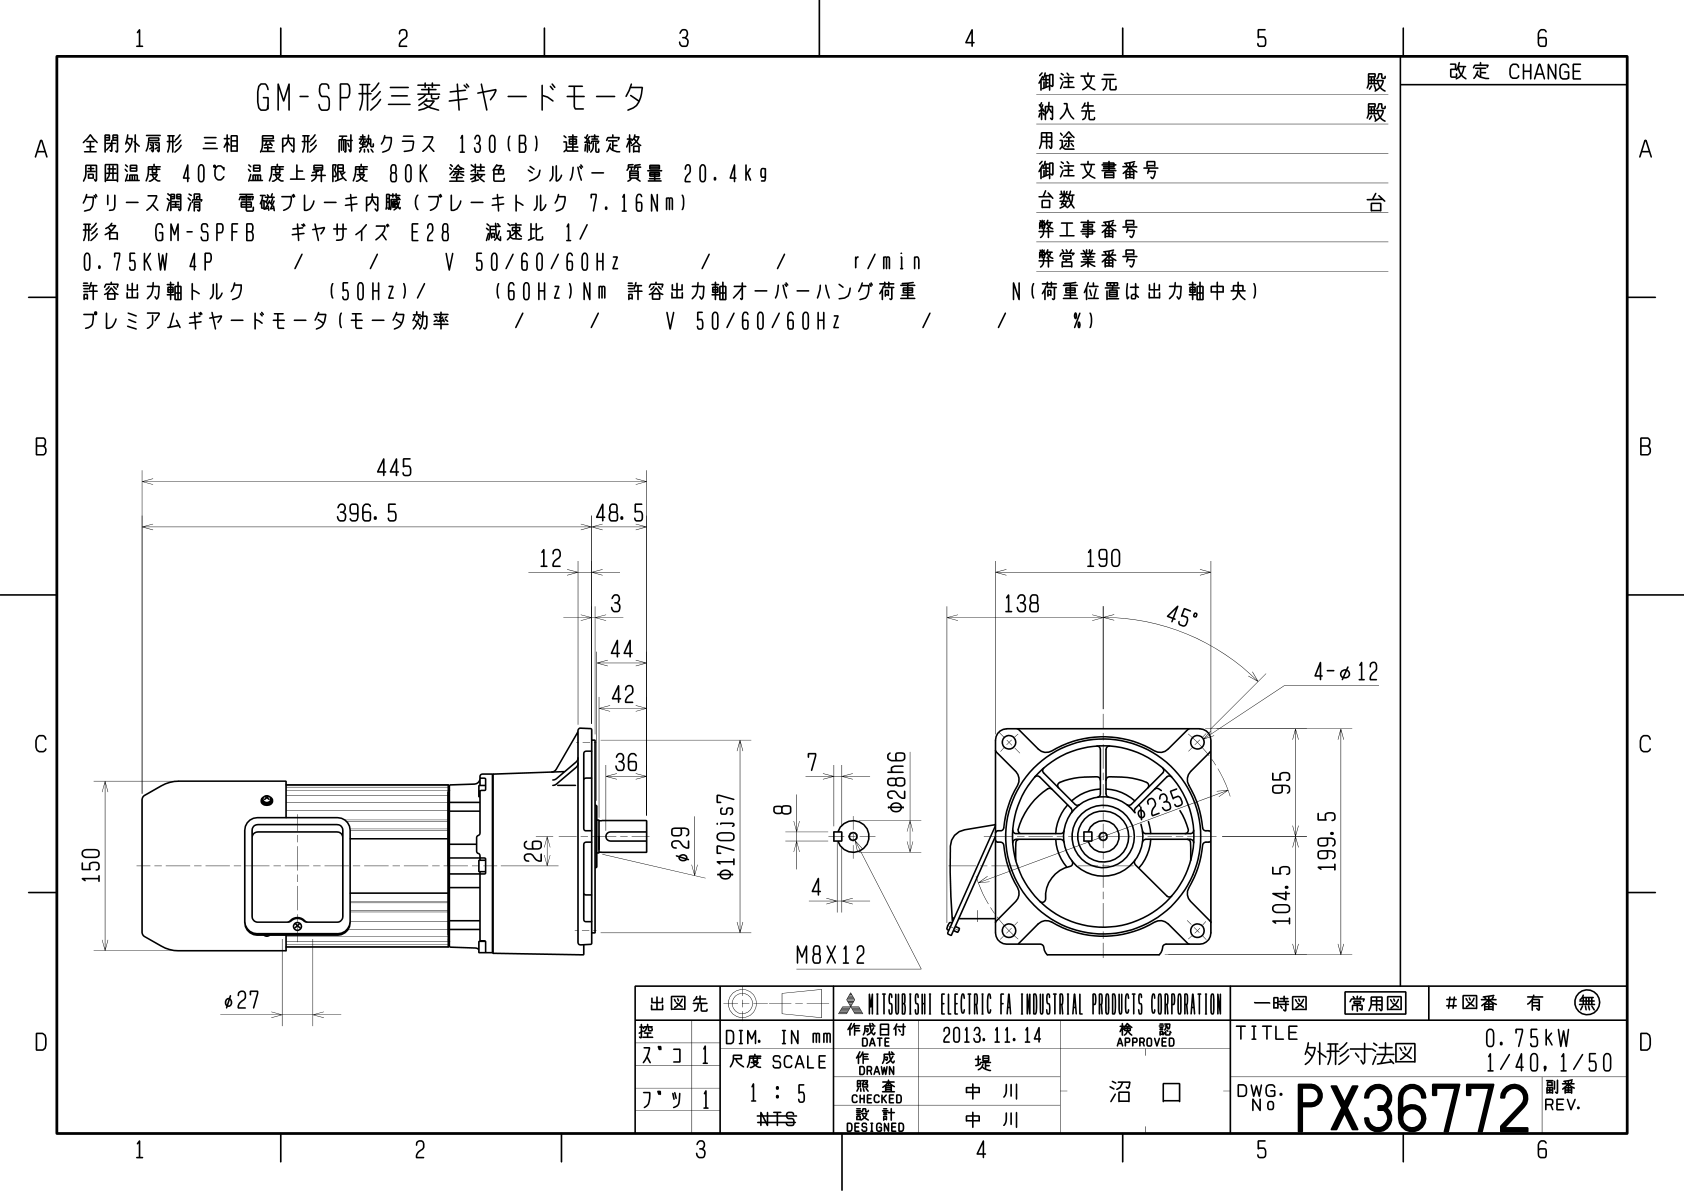GM_SP_屋内_三相_フランジ: (70, 375, 1383, 974)
